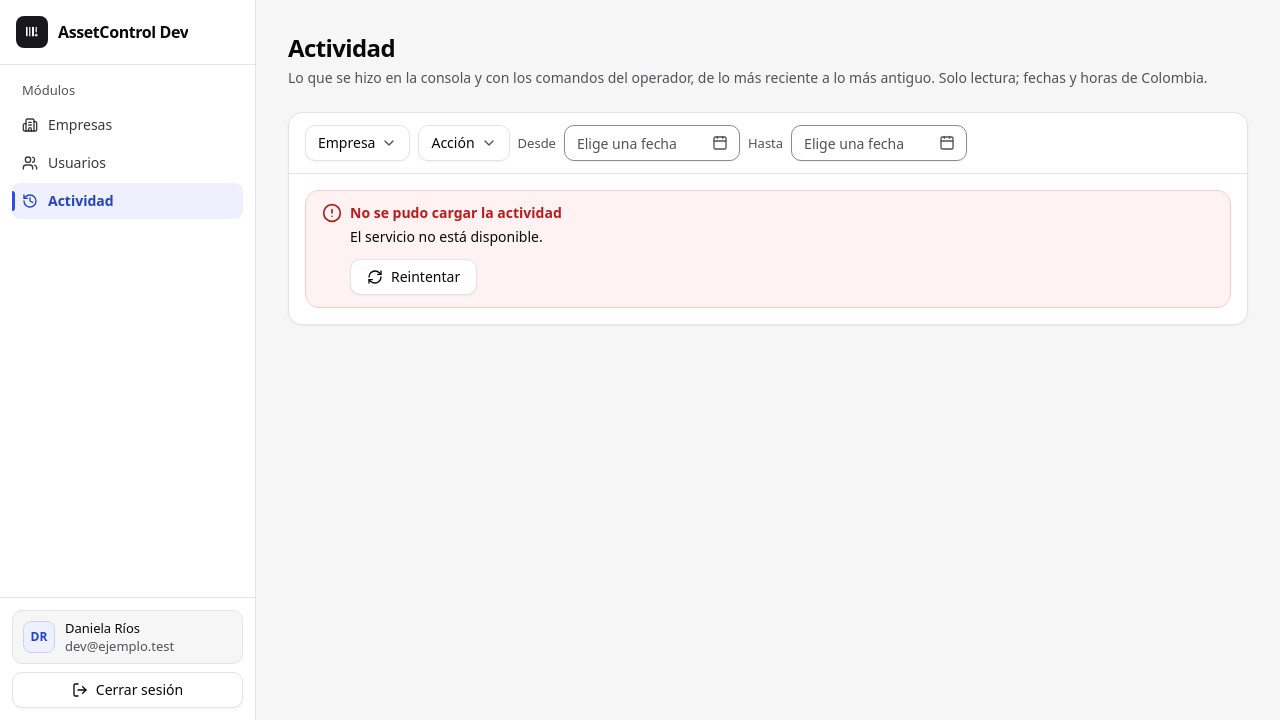
lista de actividad (CU-08; R32) › con error lo dice y se reintenta
The width and height of the screenshot is (1280, 720).
Expected: the text "No se pudo cargar la actividad" is shown, [350,203,562,222]
Click the button "Reintentar" at [414, 277], box [350,259,477,295]
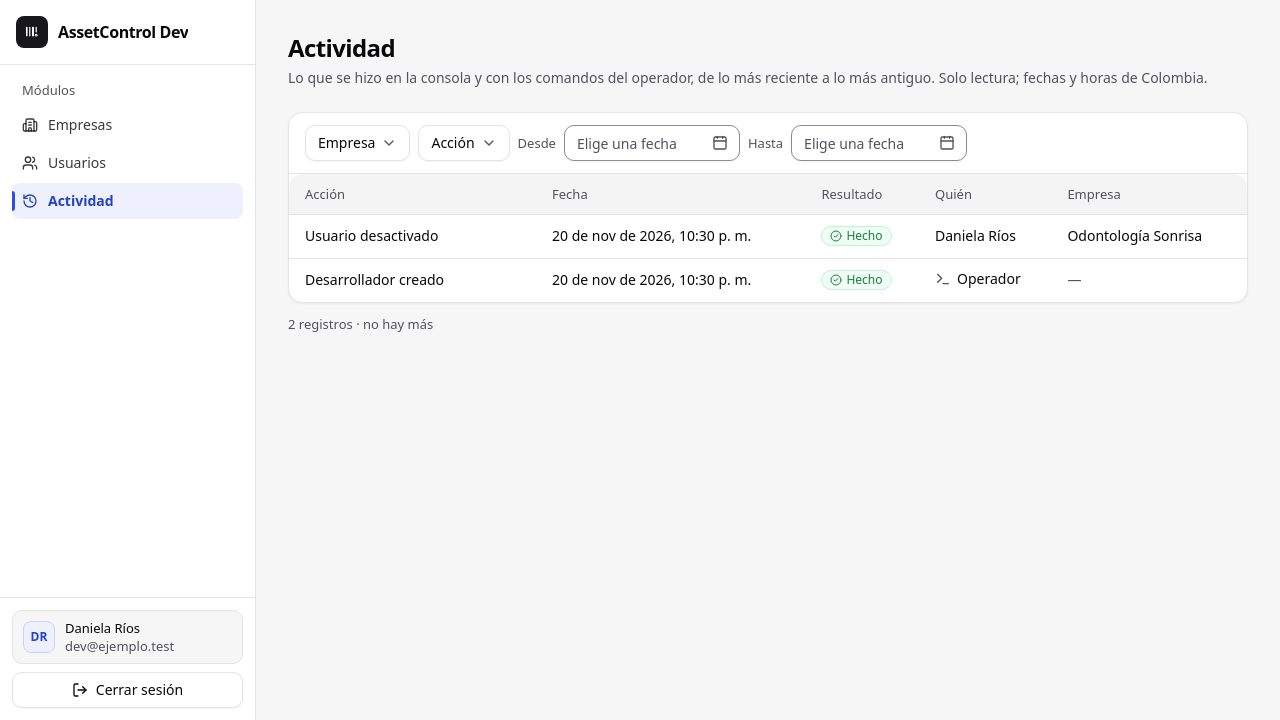
Result: the table named "Actividad" is shown at [289,174,1247,302]
